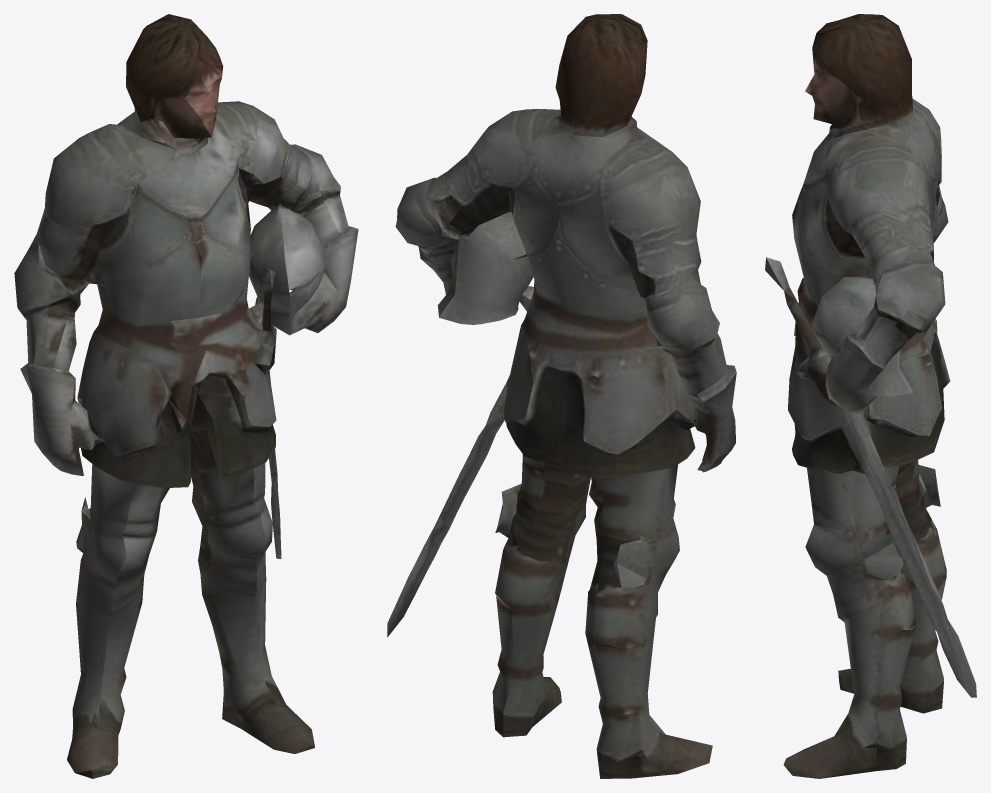
The model's file is ser_duncan_knight_lod1.glb.
3 views of the same model, side by side, from view 1: azimuth 30°, elevation 25°; view 2: azimuth 150°, elevation 25°; view 3: azimuth 270°, elevation 25° (orthographic). The views are drawn at different scales.
Visible parts, largest first — view 1: ser_duncan_knight_lod1; view 2: ser_duncan_knight_lod1; view 3: ser_duncan_knight_lod1.
Boxes of the visible parts, x1,y1,x2,y2 form: ser_duncan_knight_lod1: [14, 14, 358, 778]; ser_duncan_knight_lod1: [387, 14, 736, 778]; ser_duncan_knight_lod1: [765, 14, 976, 778].
Bounding box in the file's own units: 0.8639 × 1.84 × 0.5001.
1 material, 1 textured.
